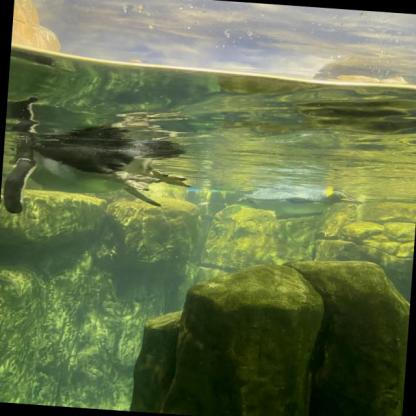penguin: (2, 119, 195, 225), (235, 182, 363, 223)
